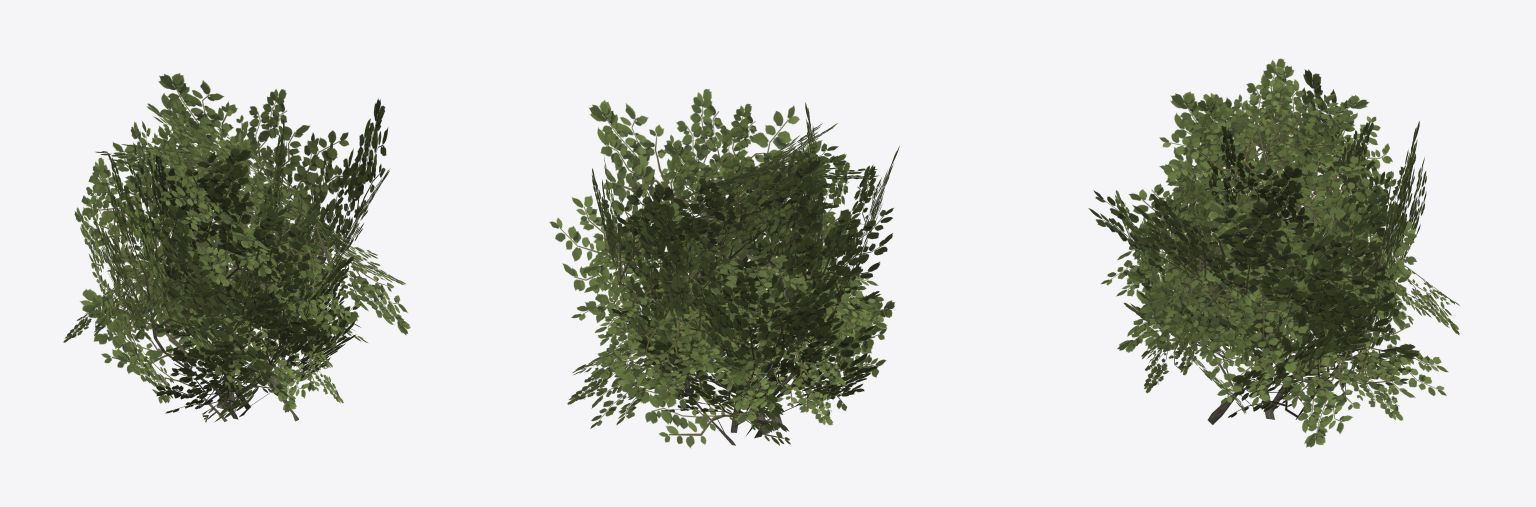
File: shrub3.glb
The picture shows the model from 3 angles, left to right: view 1: azimuth 30°, elevation 25°; view 2: azimuth 150°, elevation 25°; view 3: azimuth 270°, elevation 25°; orthographic projection. The views are drawn at different scales.
Visible parts, largest first — view 1: Bush-02; view 2: Bush-02; view 3: Bush-02.
Part boxes in pixels (box(x1,y1,x2,y2)): Bush-02: box(63, 73, 410, 422); Bush-02: box(549, 89, 899, 448); Bush-02: box(1088, 58, 1459, 447).
Size of the model in its own units: 1.19 by 0.8779 by 1.27.
2 materials, 2 textured.
